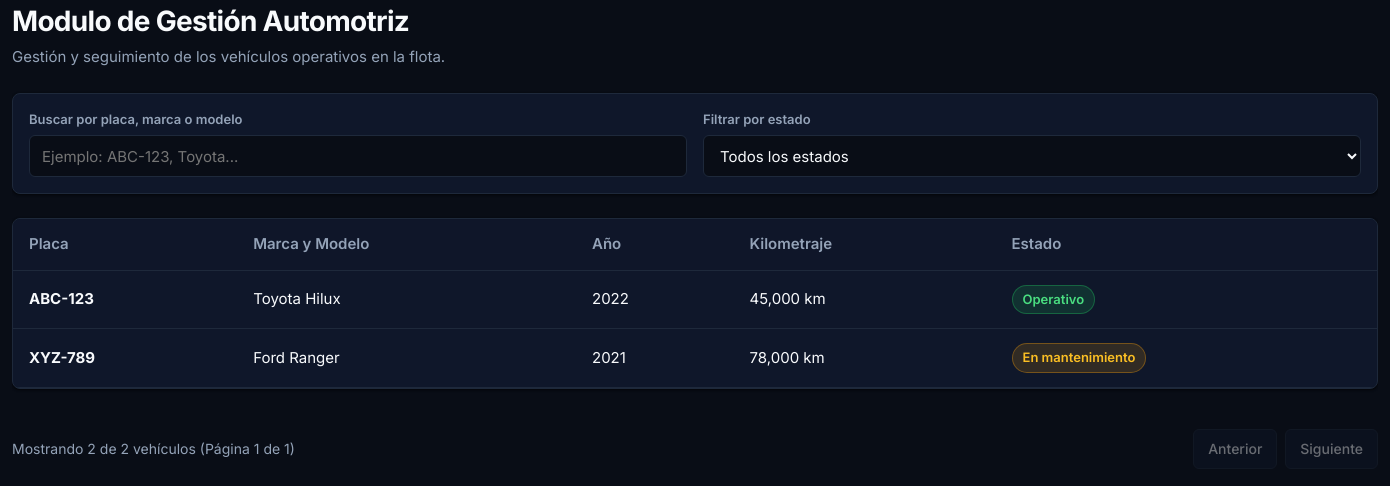
Flujo CRUD de Vehículos (VehiculosListPage) › muestra mensaje accesible de estado vacío si la búsqueda no tiene coincidencias
Expected: the text "ABC-123" is shown, x1=29 y1=289 x2=94 y2=308
In the search field labelled "Buscar por placa, marca o modelo": {"x": 358, "y": 156} x1=29 y1=135 x2=687 y2=177, type "PlacaInexistente999"
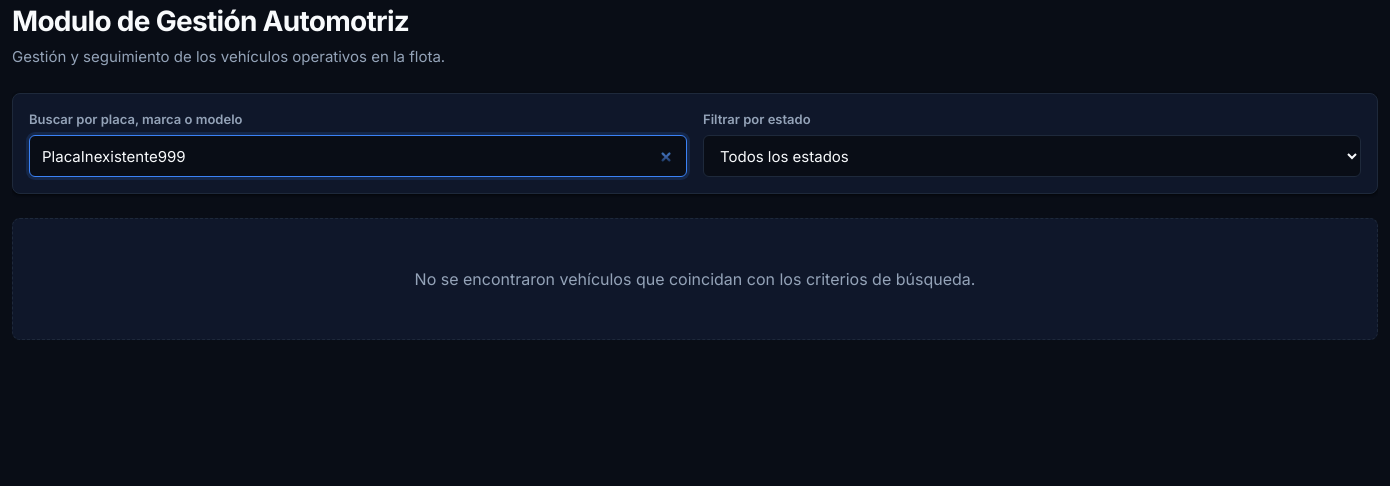
Now the text "No se encontraron vehículos que coincidan con los criterios" is shown, box x1=415 y1=269 x2=975 y2=289
